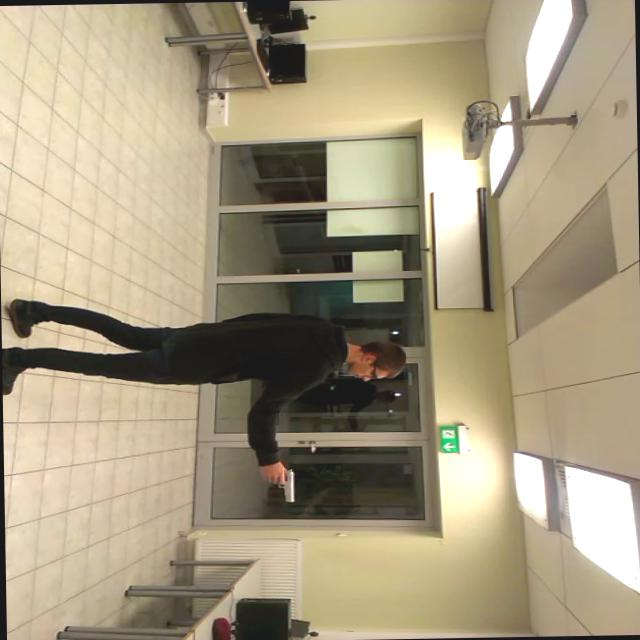handgun: (246, 461, 304, 514)
